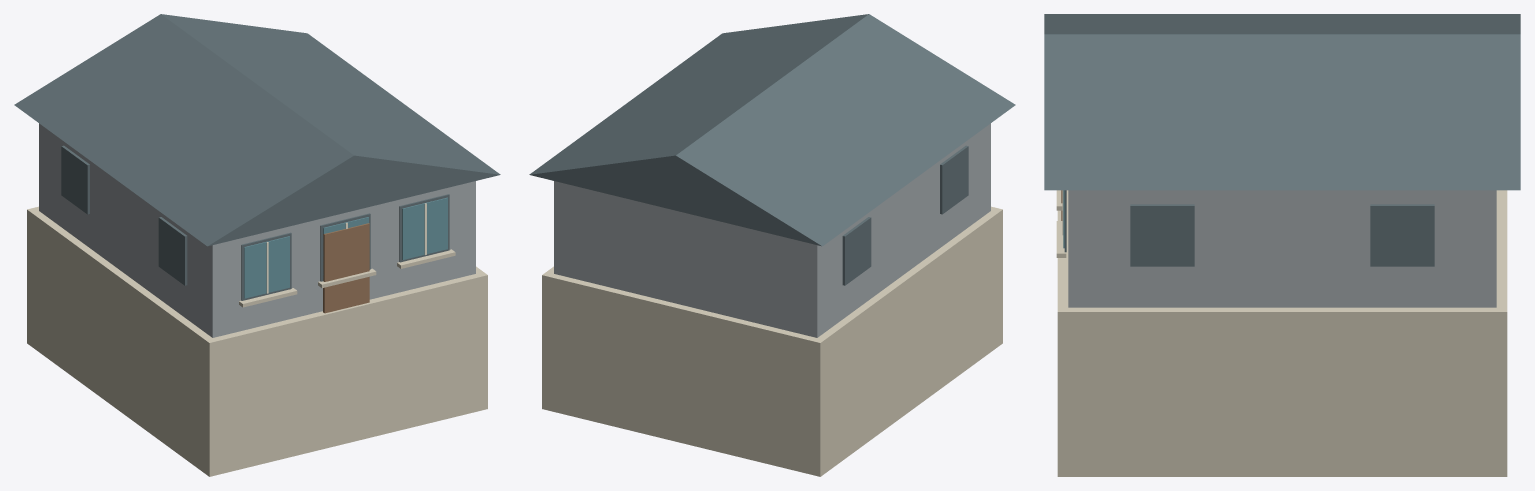
Rendered from warehouse-3.glb.
The picture shows the model from 3 angles, left to right: view 1: azimuth 30°, elevation 25°; view 2: azimuth 150°, elevation 25°; view 3: azimuth 270°, elevation 25°; orthographic projection. The views are drawn at different scales.
Bounding box in the file's own units: 3.9 × 3.7 × 4.45.
